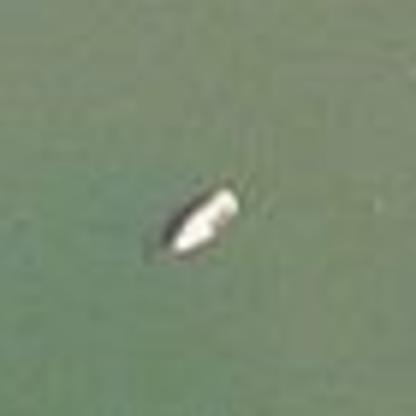ship: (159, 177, 246, 267)
